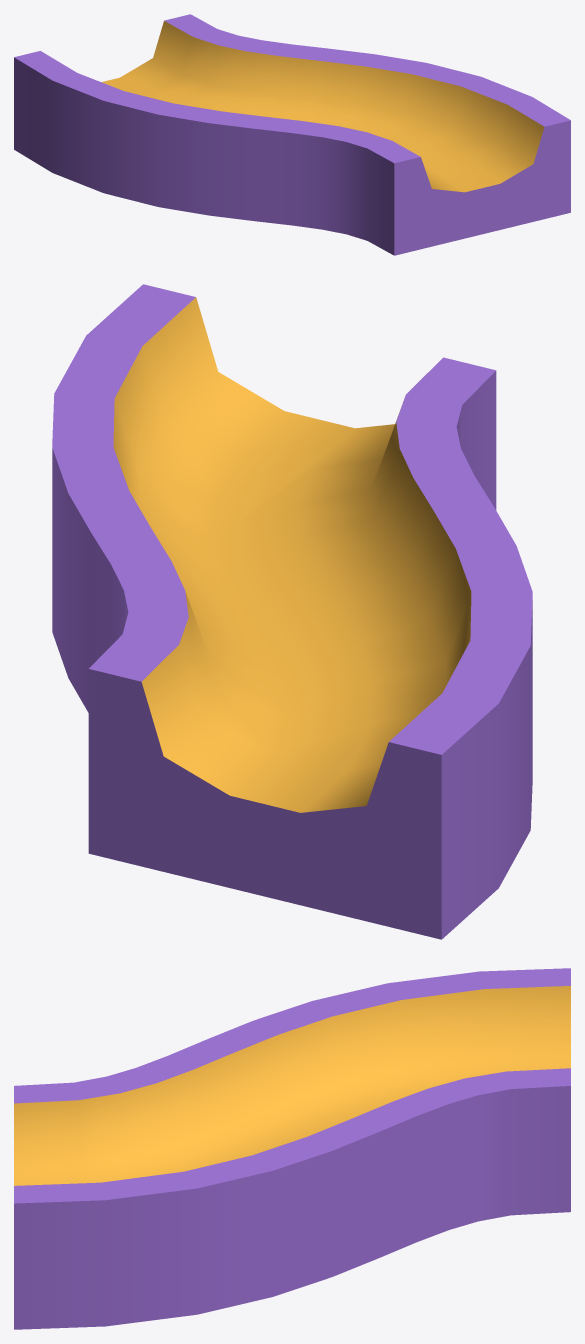
The model's file is s-curve-short-left-c.glb.
3 renders of one model, top to bottom at view 1: azimuth 30°, elevation 25°; view 2: azimuth 150°, elevation 25°; view 3: azimuth 270°, elevation 25°, orthographic. The views are drawn at different scales.
Visible parts, largest first — view 1: s-curve-short-left-c; view 2: s-curve-short-left-c; view 3: s-curve-short-left-c.
Part boxes in pixels (left/top/right/bottom): s-curve-short-left-c: left=14, top=14, right=570, bottom=255; s-curve-short-left-c: left=52, top=284, right=532, bottom=939; s-curve-short-left-c: left=14, top=968, right=570, bottom=1329.
Bounding box in the file's own units: 2 × 0.5001 × 2.
Materials: 1 (1 with a texture image).
